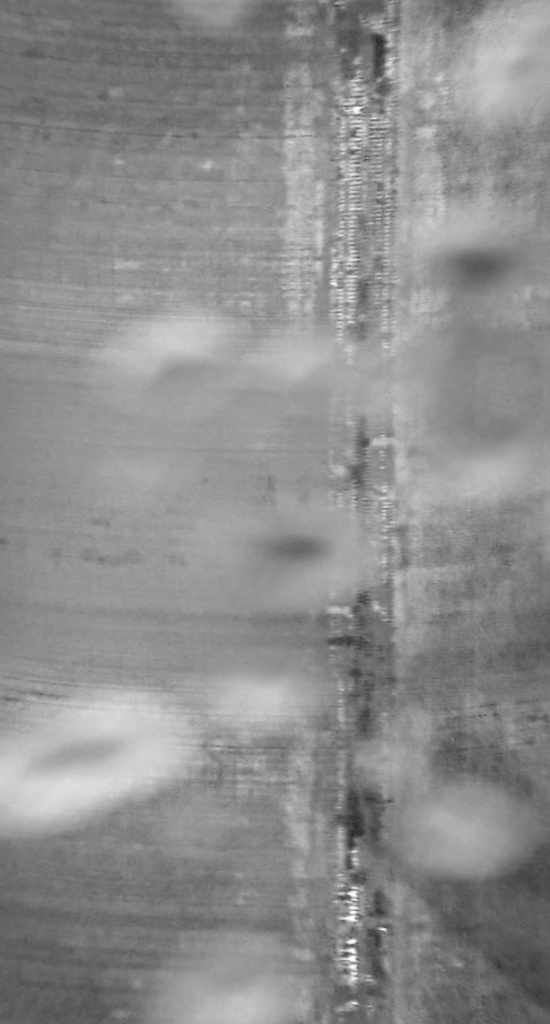splice: (318, 1, 421, 1023)
